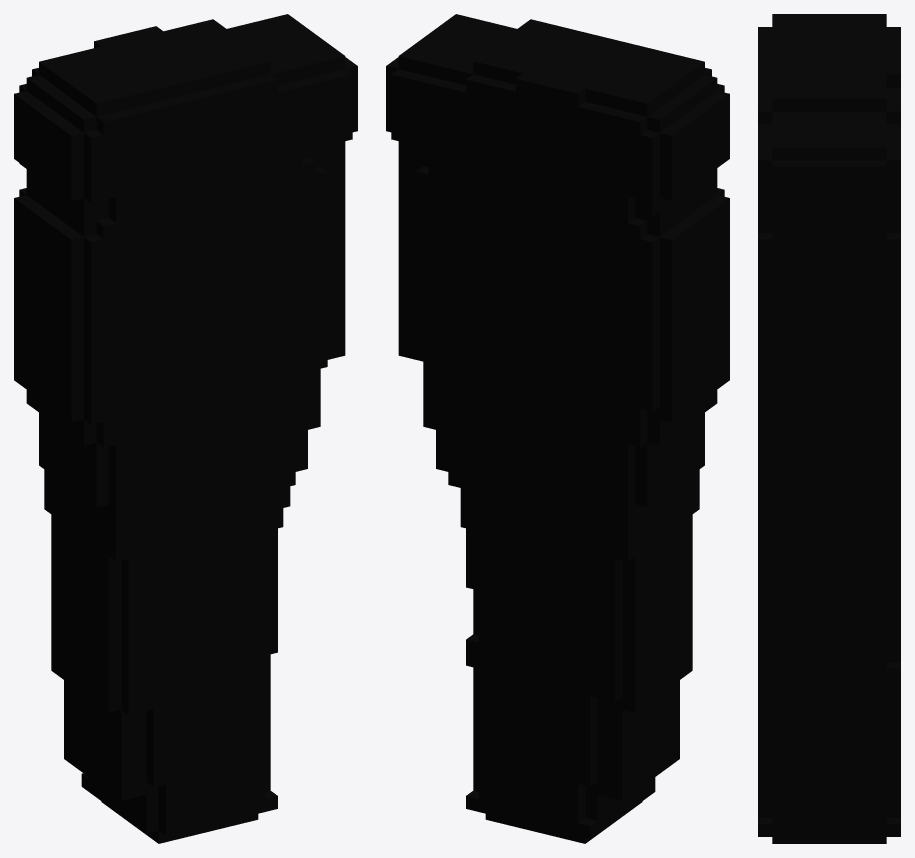
Rendered from body_of_shadow.obj.
3 views of the same model, side by side, from view 1: azimuth 30°, elevation 25°; view 2: azimuth 150°, elevation 25°; view 3: azimuth 270°, elevation 25° (orthographic).
Bounding box in the file's own units: 2.3 × 5.8 × 1.
Materials: 1 (1 with a texture image).
